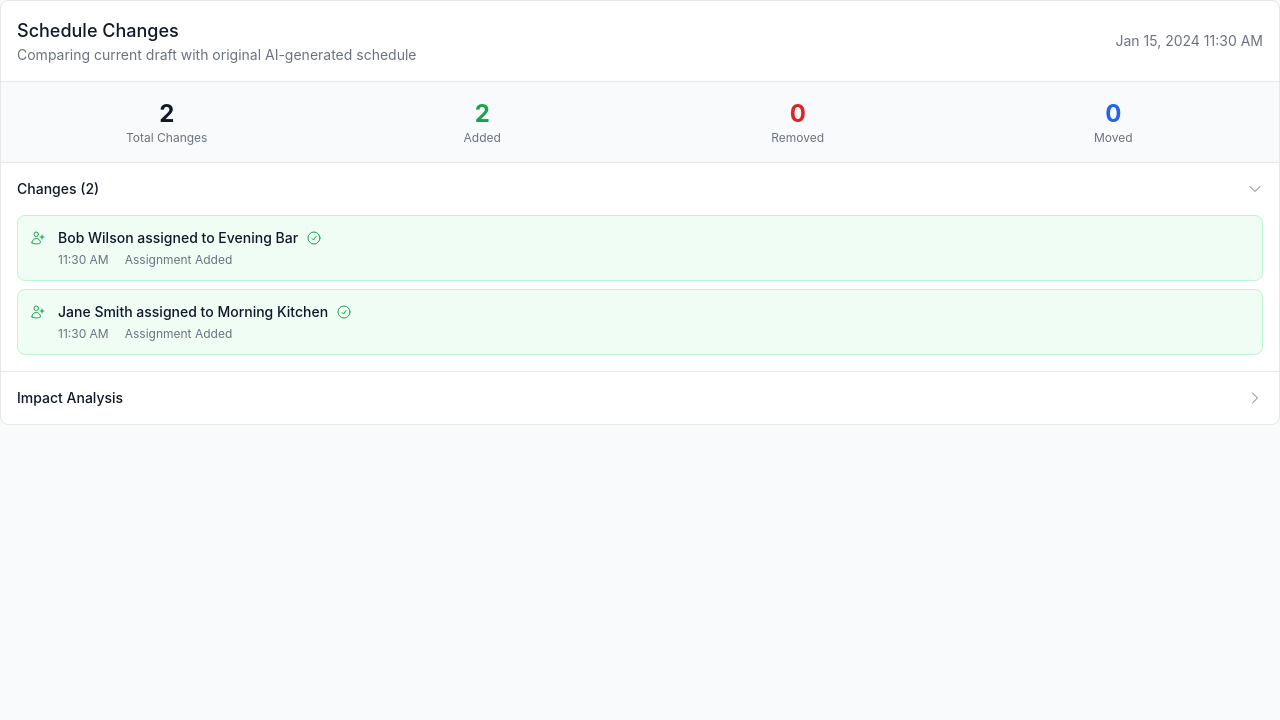
Test: DraftComparisonView › should show change details when clicked
// Click to expand details
Click the text "Jane Smith assigned to Morning Kitchen" at (205, 312), box [58,303,352,320]
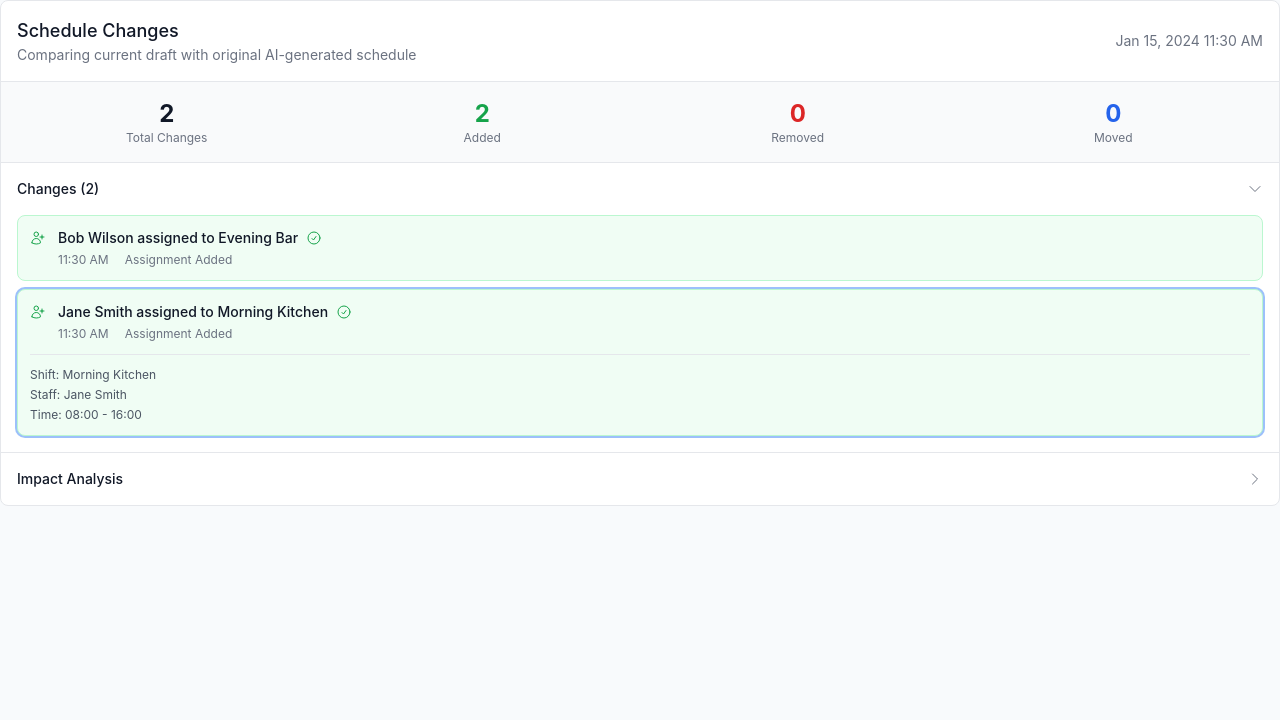
Expected: the text "Shift: Morning Kitchen" is shown, [30,367,156,382]
Expected: the text "Staff: Jane Smith" is shown, [30,387,127,402]
Expected: the text "Time: 08:00 - 16:00" is shown, [30,407,142,422]
